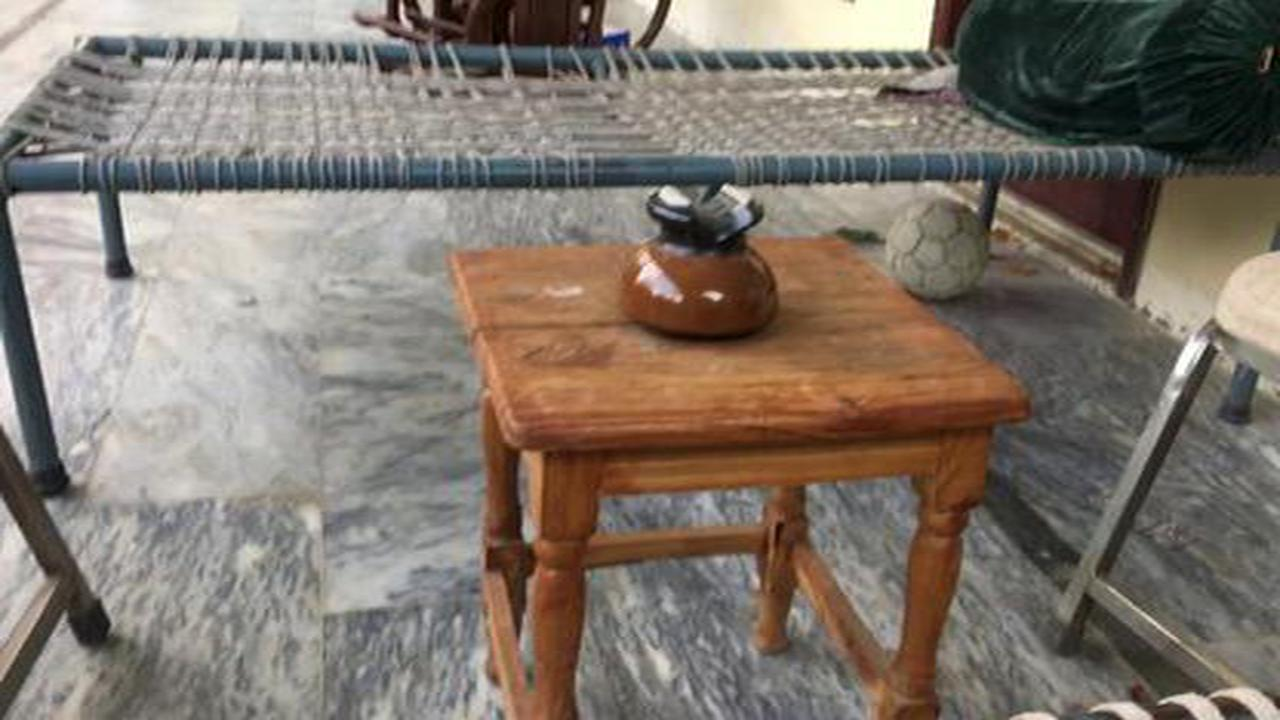insulator_pin: (607, 165, 801, 359)
